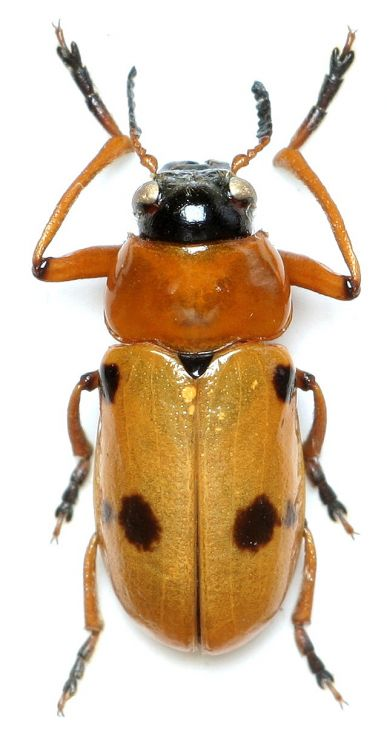Tituboea_macropus: (16, 14, 372, 728)
